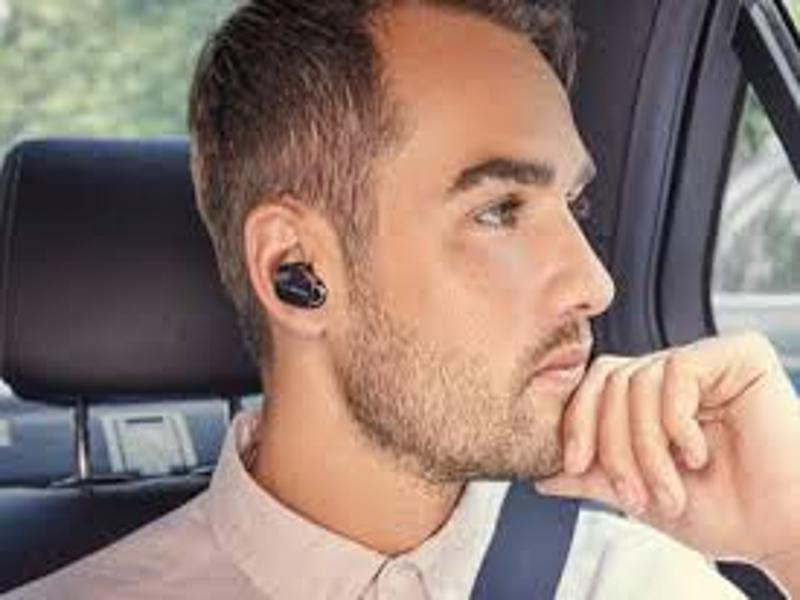headphone: (273, 260, 331, 308)
